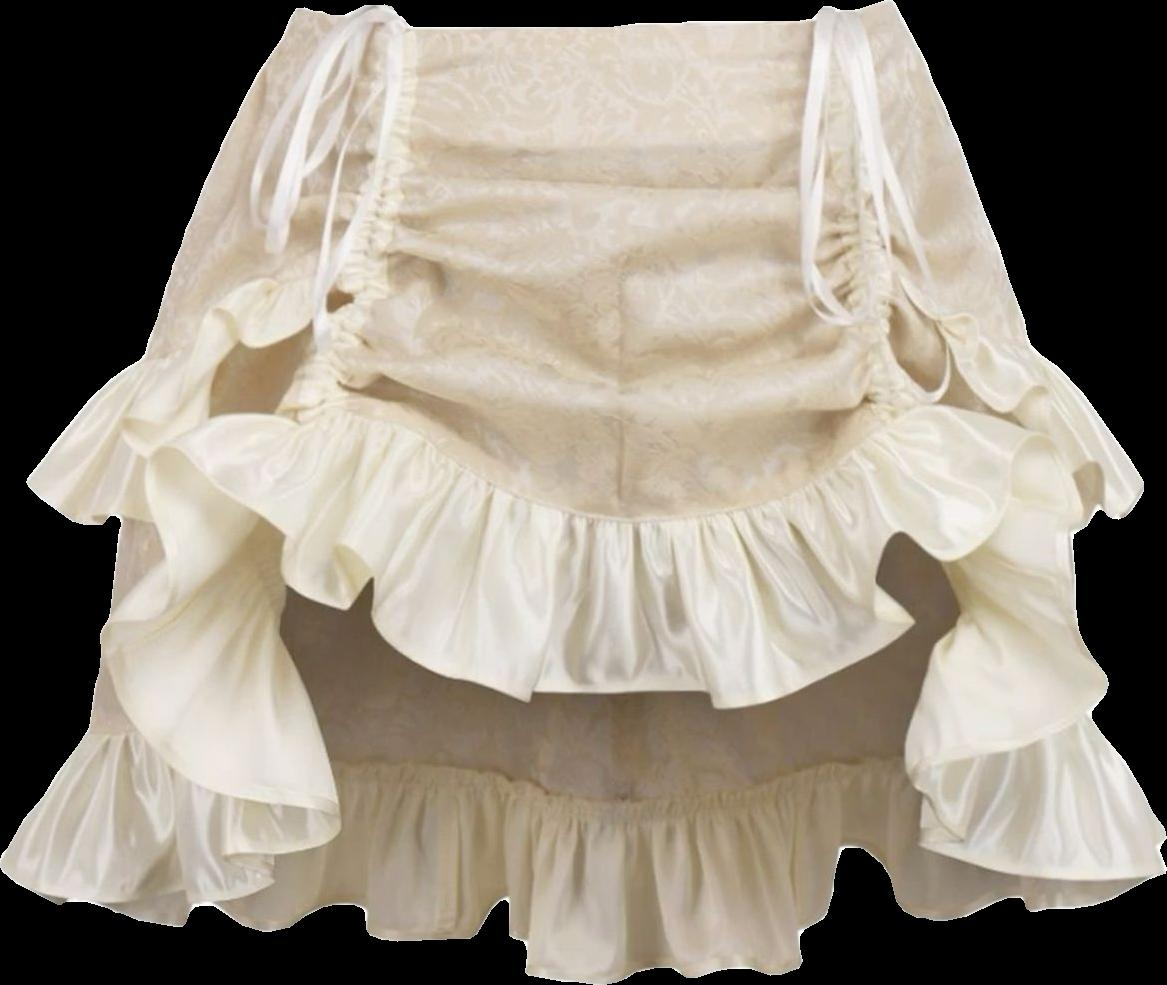Hemline: (6, 450, 1157, 918)
Waistline: (121, 273, 1045, 525), (292, 0, 887, 39)
